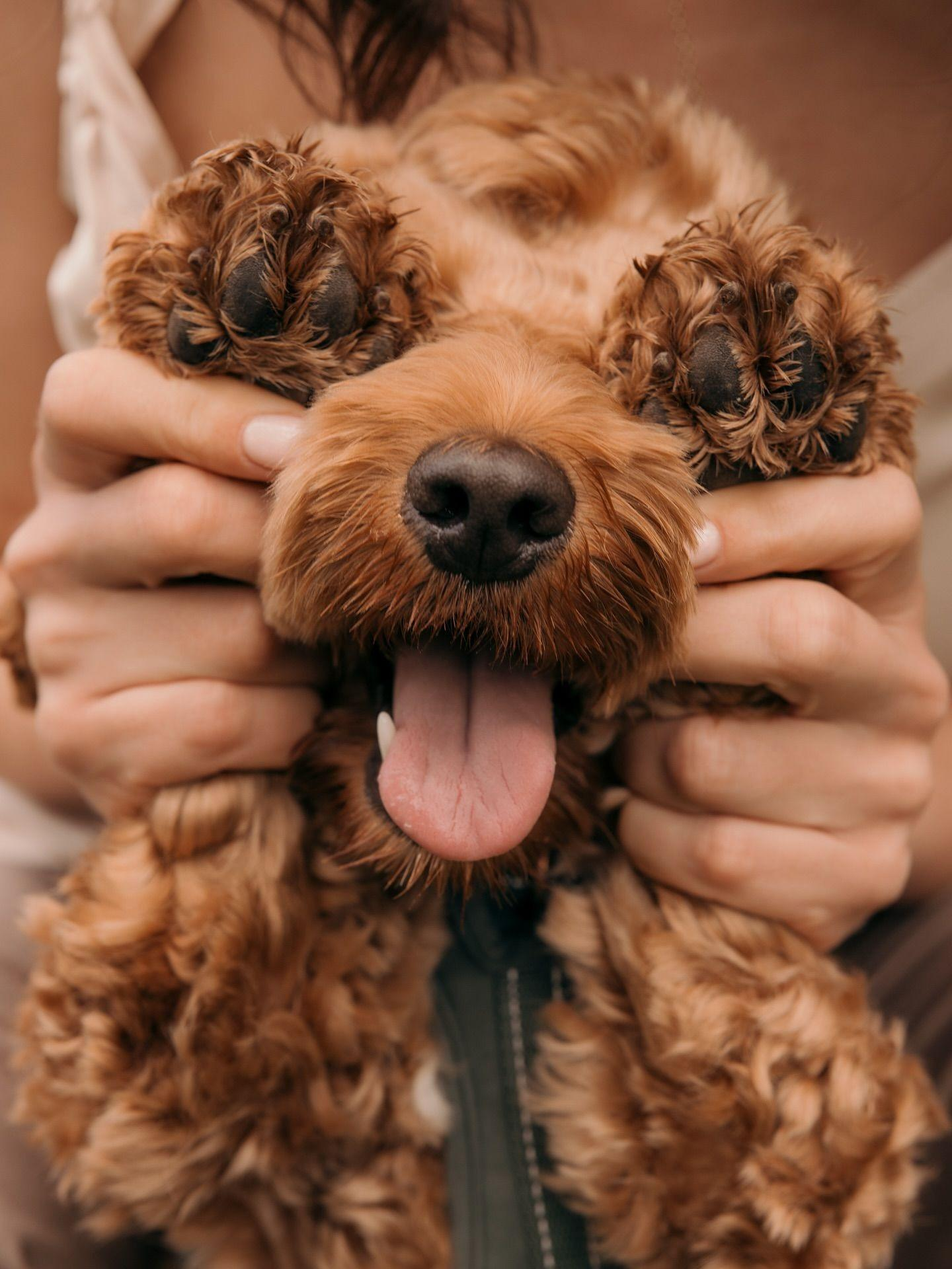adult_dog: (0, 75, 952, 1269)
